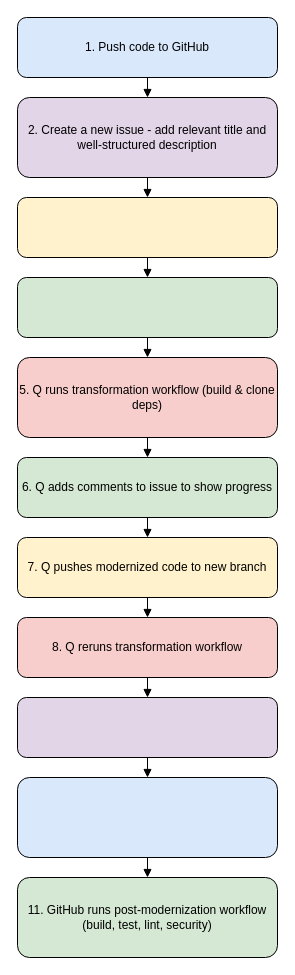
Some shapes in this 295 by 975 pixel diagram are drawn without their labels. Each missing label, with the centre of its shape:
10. Q's PR agent runs security & code-quality checks: pixel 147 817
3. Assign "Amazon Q transform agent" to the issue: pixel 147 227
4. Q creates new branch (from main): pixel 147 307
9. Q creates a new PR: pixel 147 727
